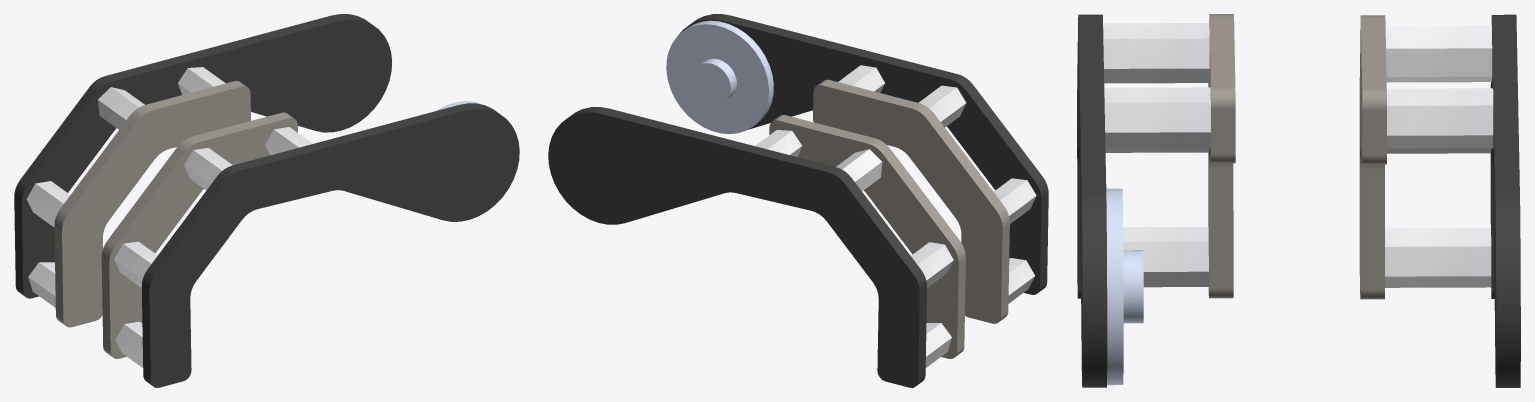
Rendered from r_graspB_link.dae.
3 renders of one model, left to right at view 1: azimuth 30°, elevation 25°; view 2: azimuth 150°, elevation 25°; view 3: azimuth 270°, elevation 25°, orthographic. The views are drawn at different scales.
Visible parts, largest first — view 1: Actor0; view 2: Actor0; view 3: Actor0.
Part boxes in pixels (box(x1,y1,x2,y2)): Actor0: box(14, 14, 519, 387); Actor0: box(548, 14, 1048, 387); Actor0: box(1077, 14, 1520, 387).
Size of the model in its own units: 0.0874 by 0.0452 by 0.0541.
4 materials, 1 textured.
